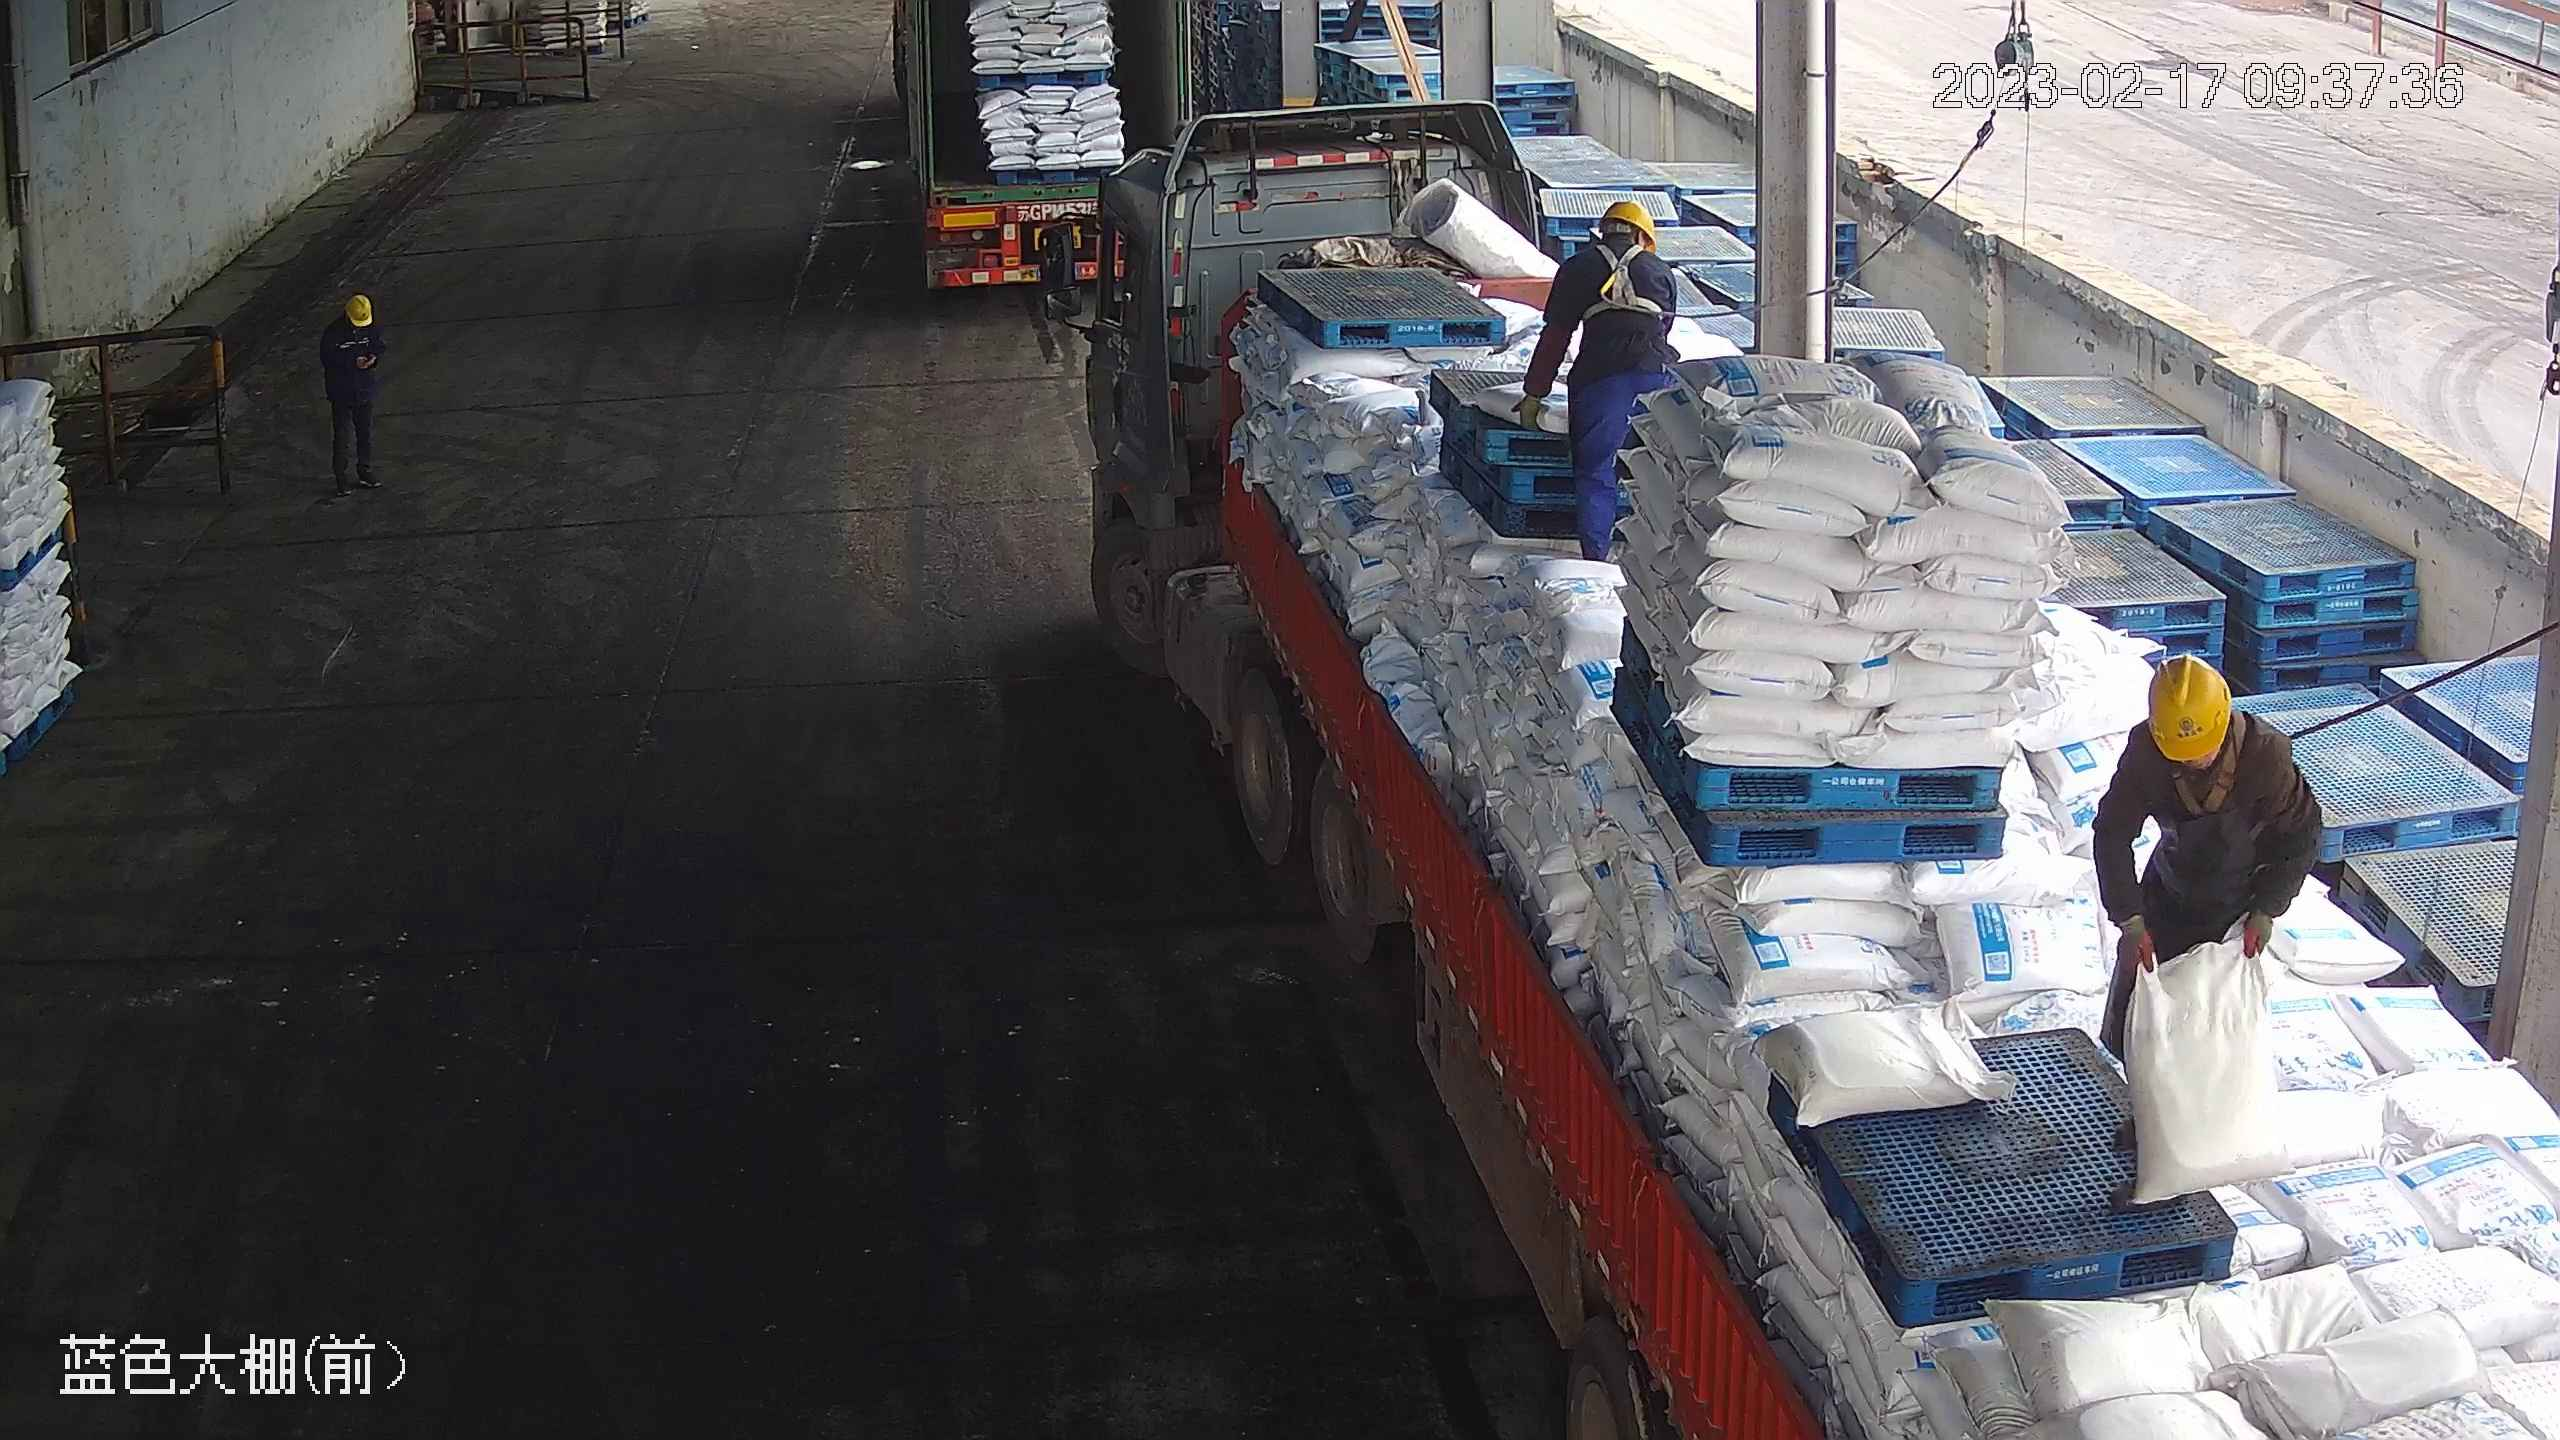belt: (2170, 711, 2262, 816), (1571, 241, 1661, 317)
head: (2116, 655, 2287, 797), (1560, 200, 1674, 293), (319, 292, 384, 352)
helmet: (2147, 653, 2239, 765), (1599, 197, 1659, 250), (343, 292, 375, 324)
people: (2085, 652, 2322, 1057), (1517, 193, 1679, 568), (317, 292, 388, 495)
truck: (1040, 98, 2553, 1439), (888, 1, 1188, 295)
